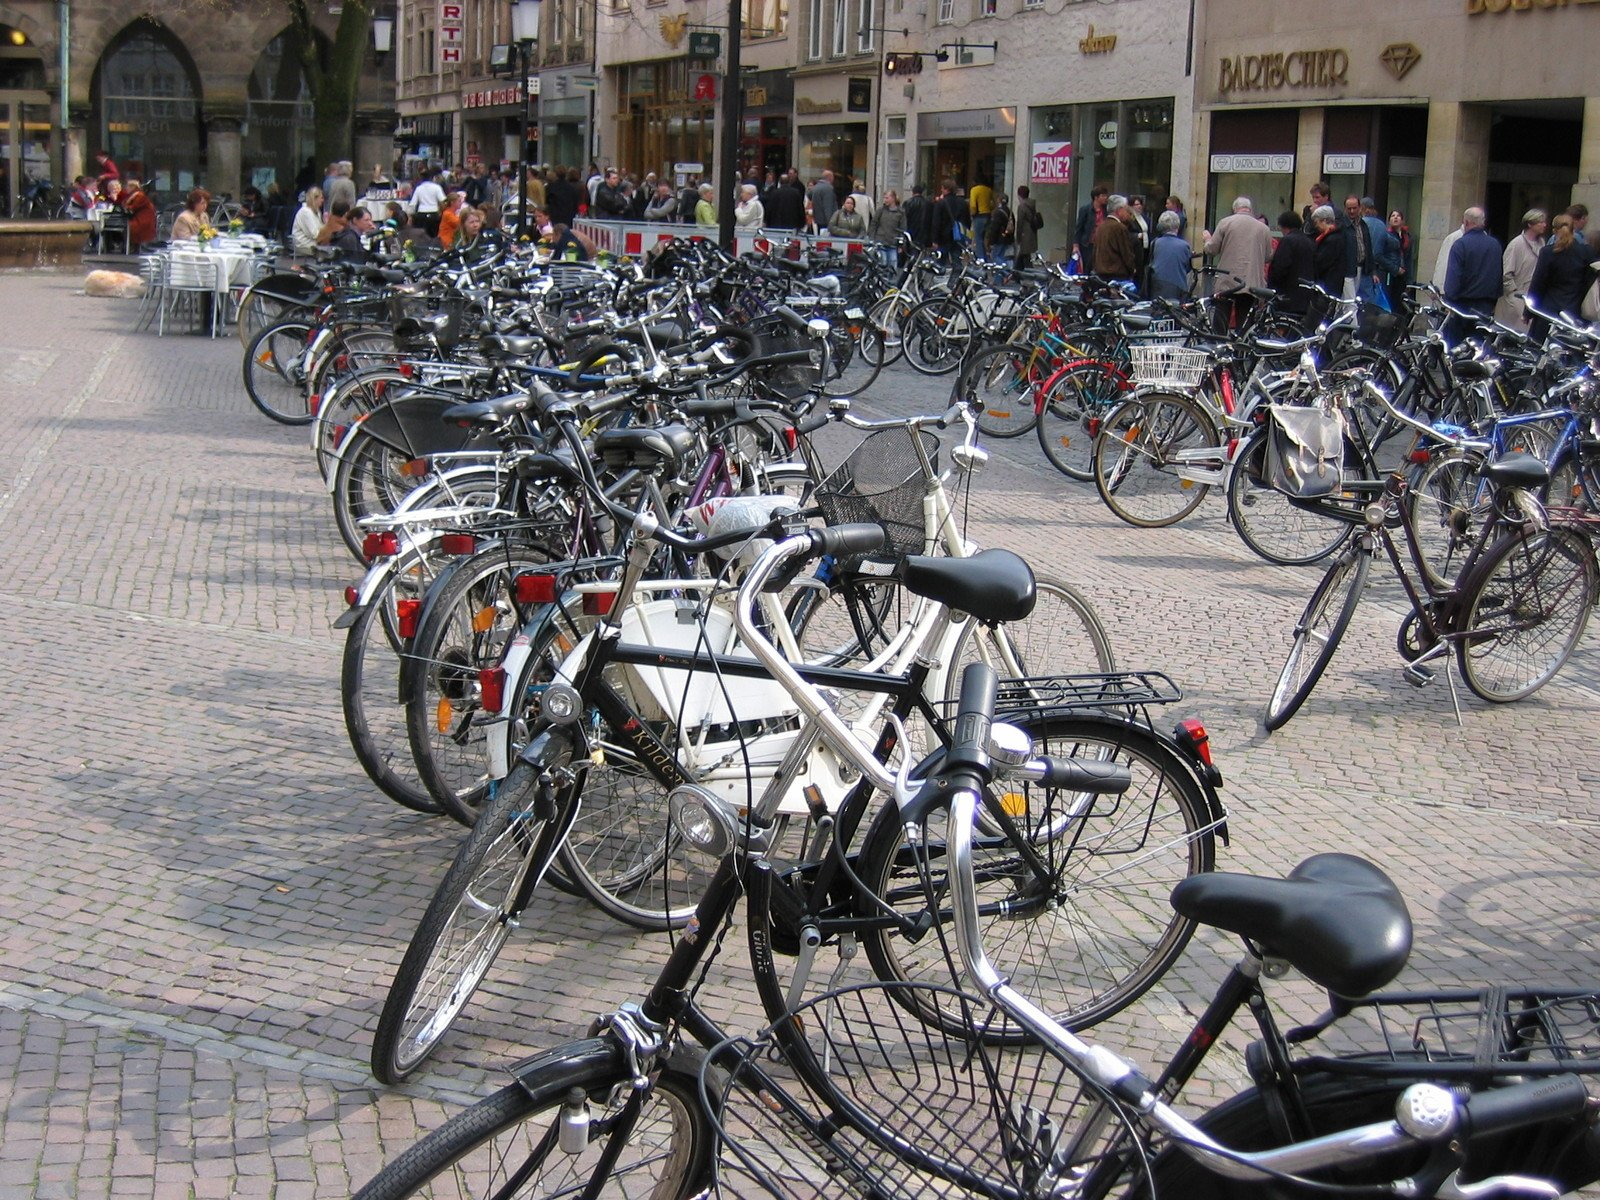Bicycle: (1, 117, 1412, 1194)
